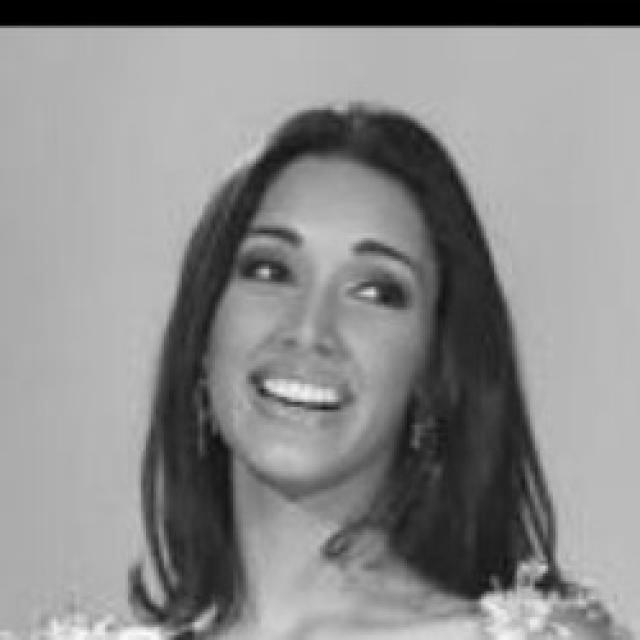real: (190, 150, 444, 498), (216, 236, 412, 314)
